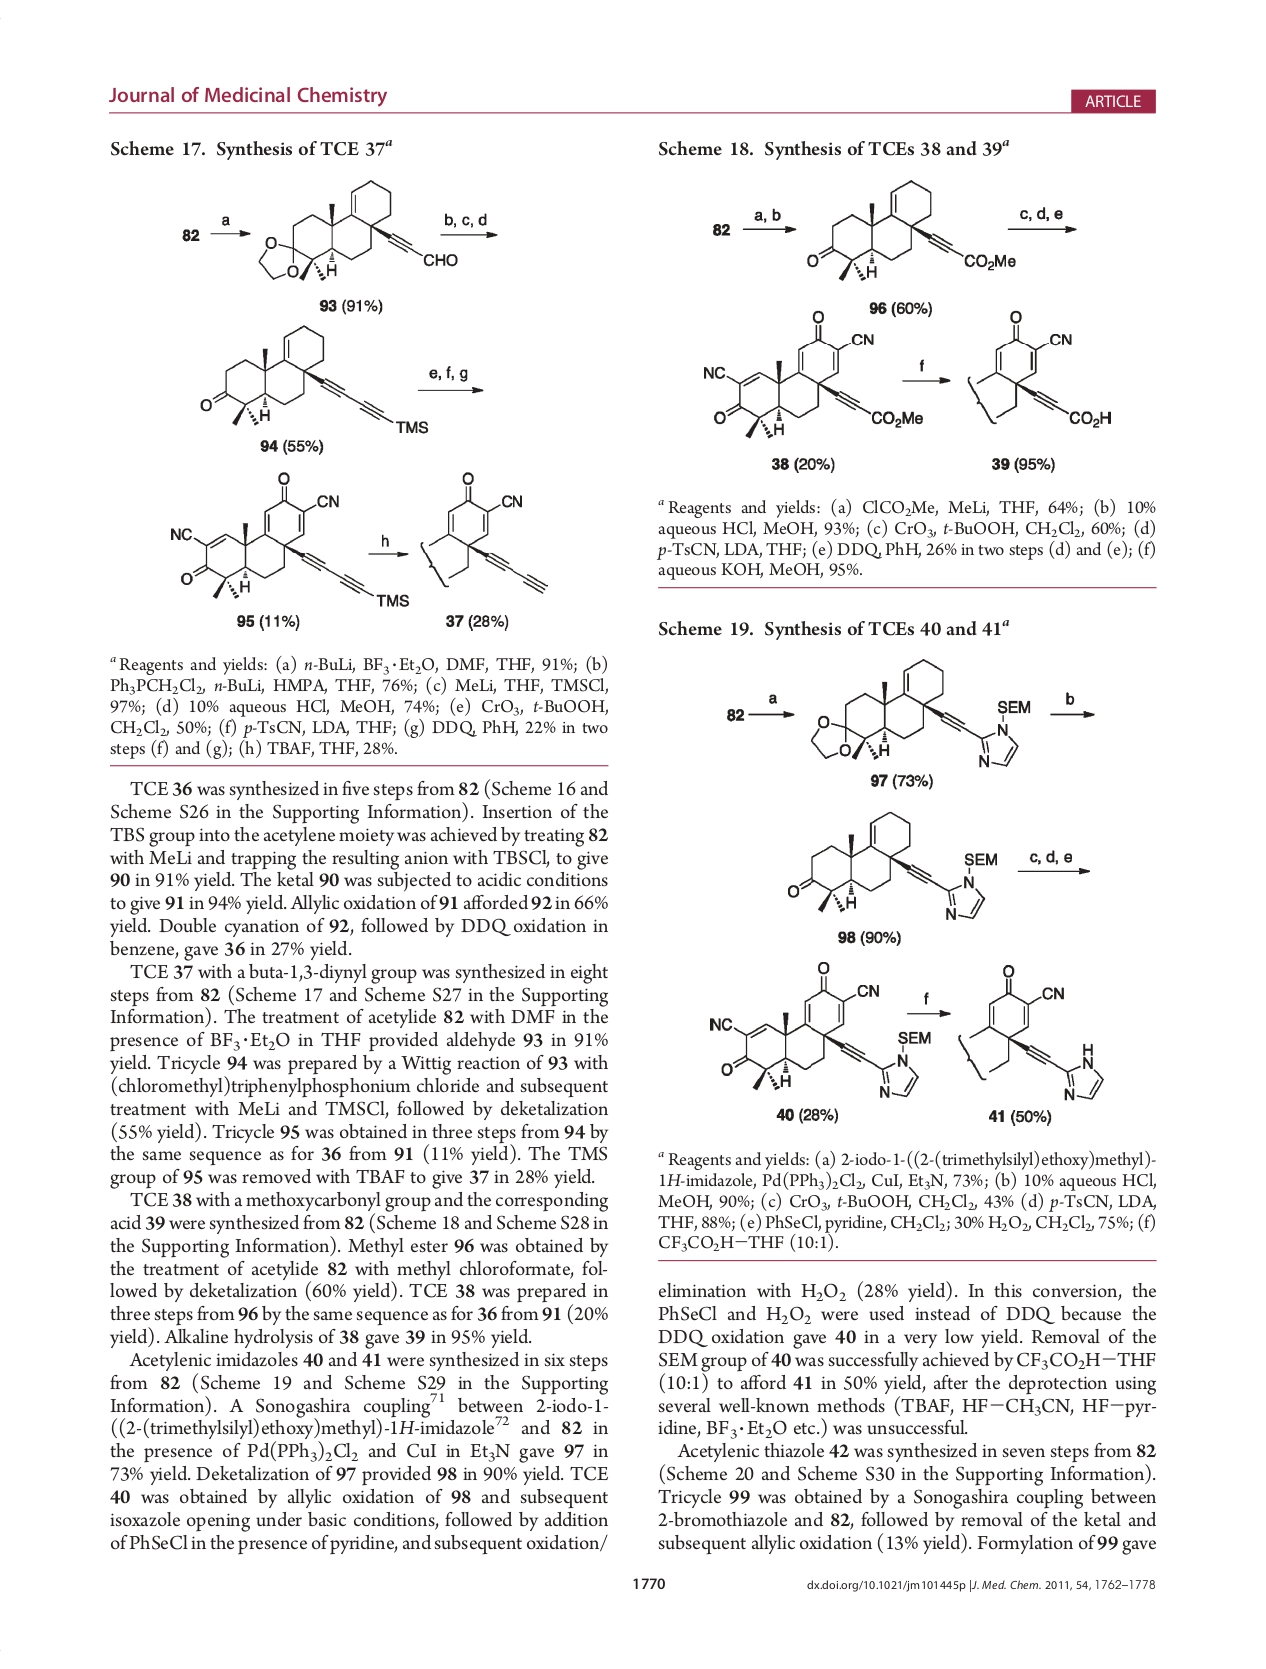exist_molecular: (169, 471, 410, 609), (705, 958, 934, 1102), (701, 309, 926, 442), (809, 654, 1033, 774), (197, 322, 432, 434), (782, 806, 1001, 926), (805, 178, 1019, 285), (254, 177, 461, 285), (965, 962, 1105, 1106), (973, 306, 1114, 434), (426, 469, 553, 598)
